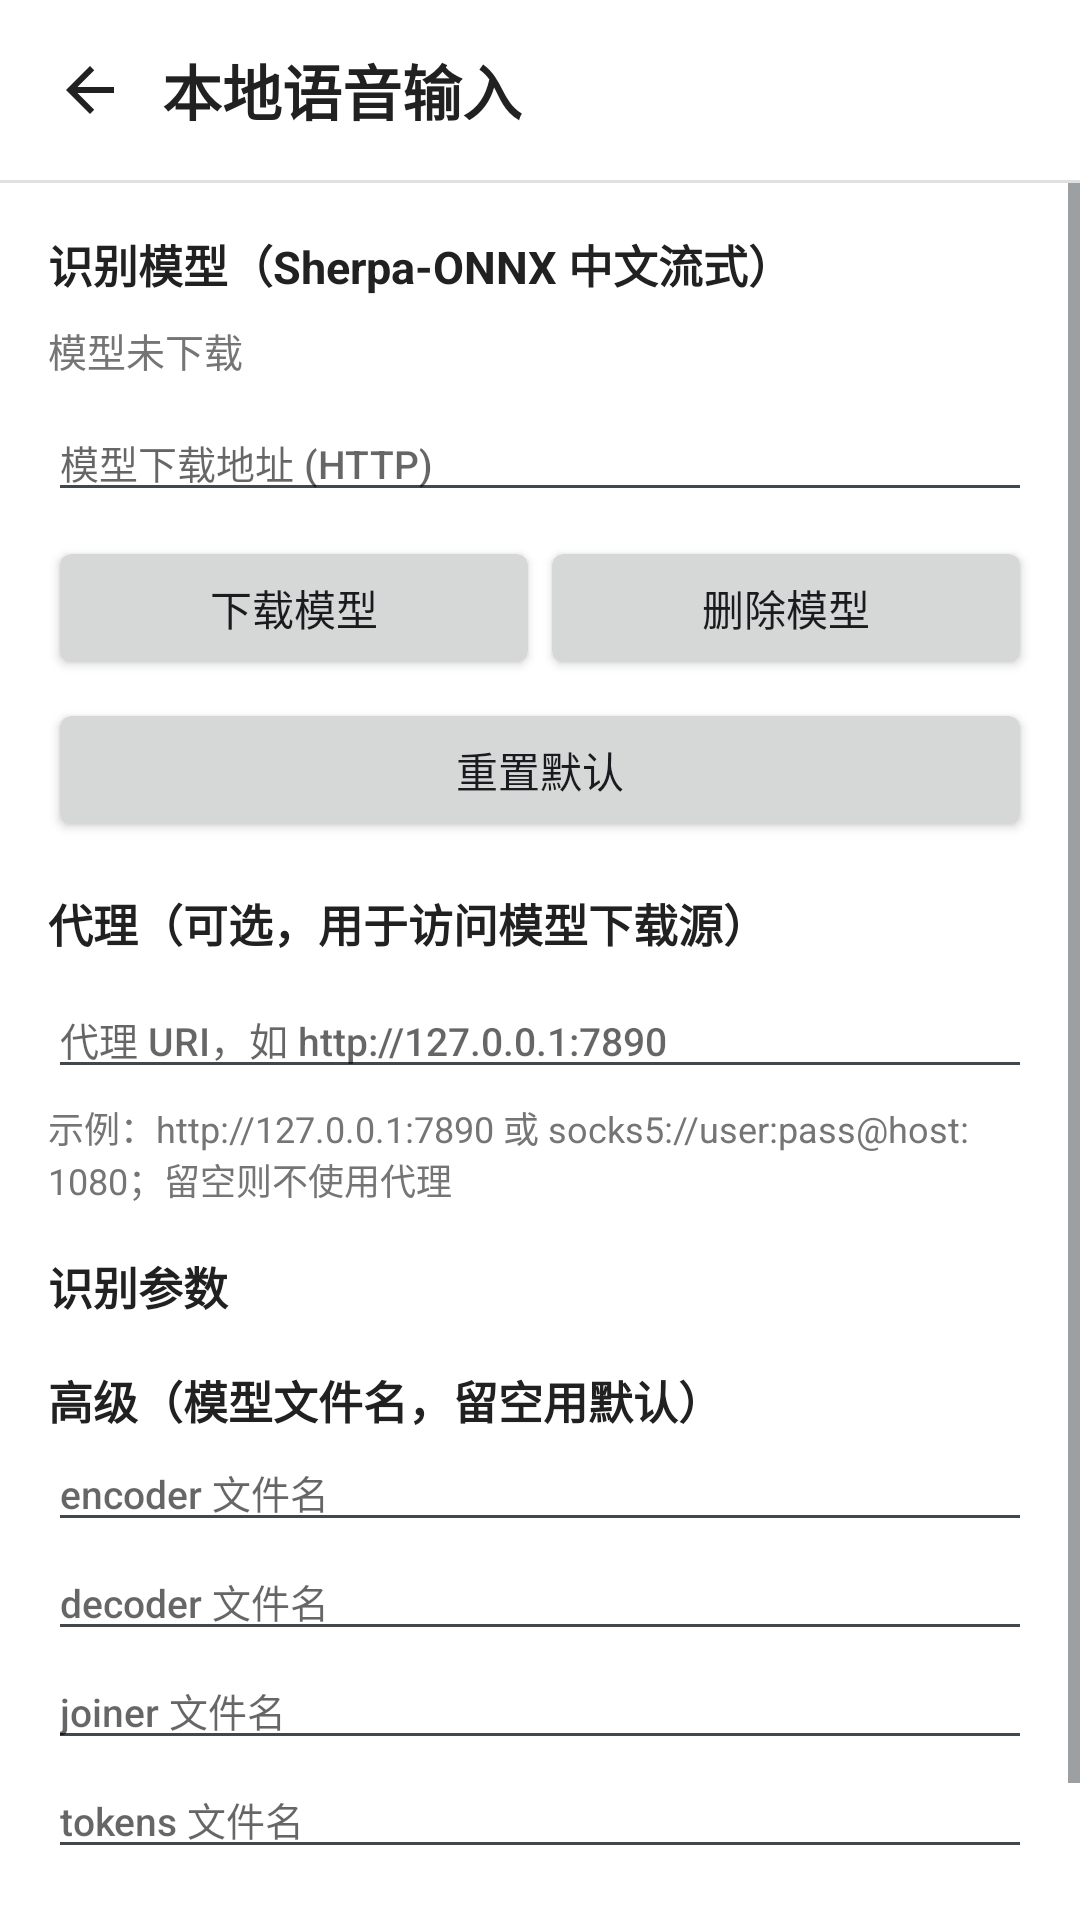

Point at icon controls on the screen. Image size 1080 x 1920, points as (x=x, y=y).
返回: (x=90, y=90)
